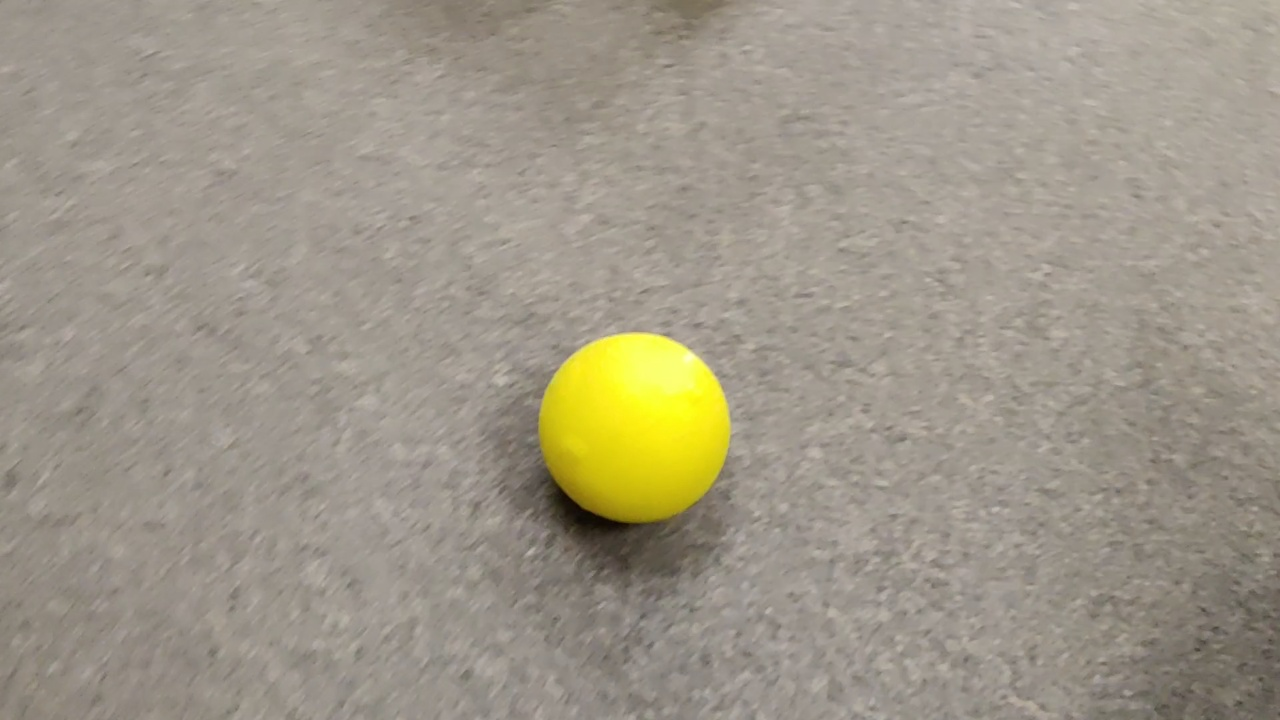Ball: (539, 333, 730, 523)
